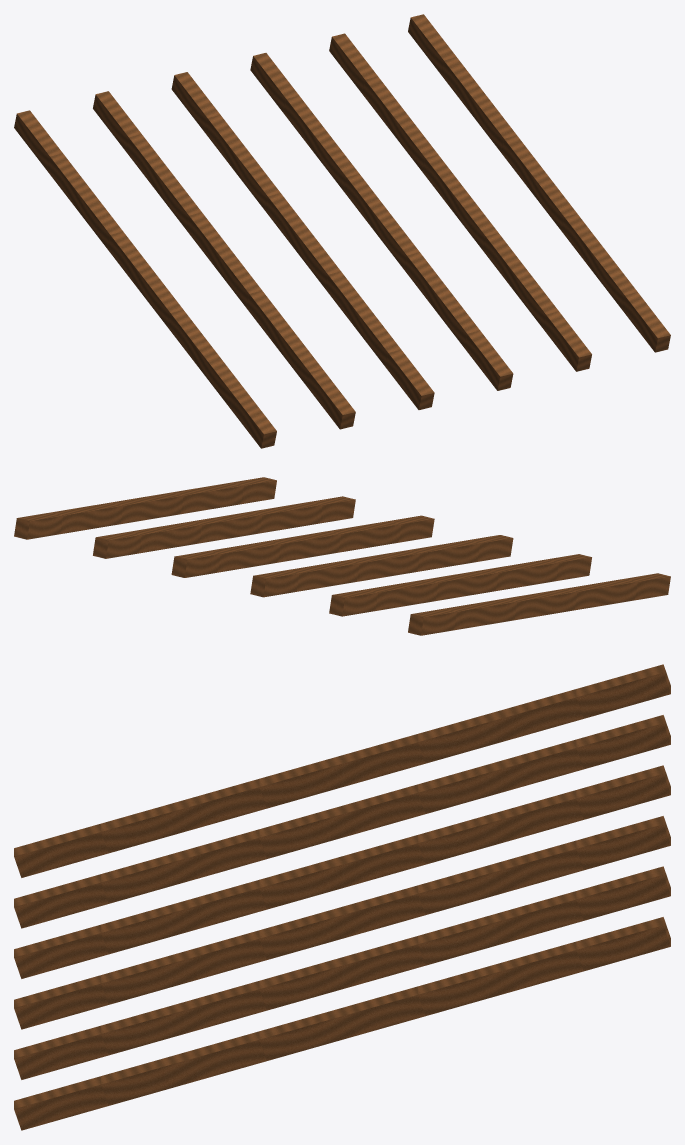
File: estate_roof_slope_2f.glb
3 renders of one model, top to bottom at view 1: azimuth 30°, elevation 25°; view 2: azimuth 150°, elevation 25°; view 3: azimuth 270°, elevation 25°, orthographic. The views are drawn at different scales.
Visible parts, largest first — view 1: Cube.001, Cube.002, Cube.003, Cube.004, Cube, Cube.005; view 2: Cube, Cube.001, Cube.004, Cube.005, Cube.002, Cube.003; view 3: Cube, Cube.005, Cube.001, Cube.002, Cube.003, Cube.004.
Part boxes in pixels (bbox=[...]): Cube.001: bbox=[93, 91, 355, 429]; Cube.002: bbox=[171, 72, 434, 409]; Cube.003: bbox=[250, 53, 513, 390]; Cube.004: bbox=[329, 33, 591, 371]; Cube: bbox=[14, 110, 276, 448]; Cube.005: bbox=[408, 14, 670, 352]; Cube: bbox=[408, 573, 670, 635]; Cube.001: bbox=[329, 554, 591, 616]; Cube.004: bbox=[93, 496, 355, 558]; Cube.005: bbox=[14, 477, 276, 539]; Cube.002: bbox=[250, 535, 513, 597]; Cube.003: bbox=[171, 515, 434, 577]; Cube: bbox=[14, 664, 670, 877]; Cube.005: bbox=[14, 917, 670, 1130]; Cube.001: bbox=[14, 715, 670, 928]; Cube.002: bbox=[14, 765, 670, 978]; Cube.003: bbox=[14, 816, 670, 1029]; Cube.004: bbox=[14, 866, 670, 1079].
Bounding box in the file's own units: 3.72 × 1.37 × 3.96.
1 material, 1 textured.
